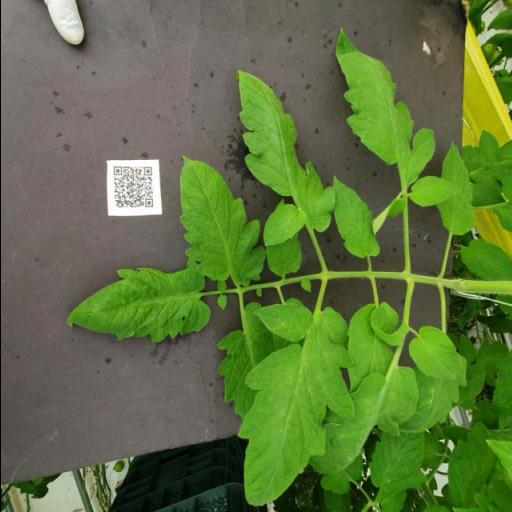Healthy: (236, 302, 354, 506), (236, 70, 334, 244), (334, 27, 436, 185), (66, 254, 211, 344), (177, 154, 267, 288), (436, 140, 476, 239), (332, 176, 380, 258), (409, 324, 460, 381), (461, 236, 512, 280), (406, 176, 462, 208)
